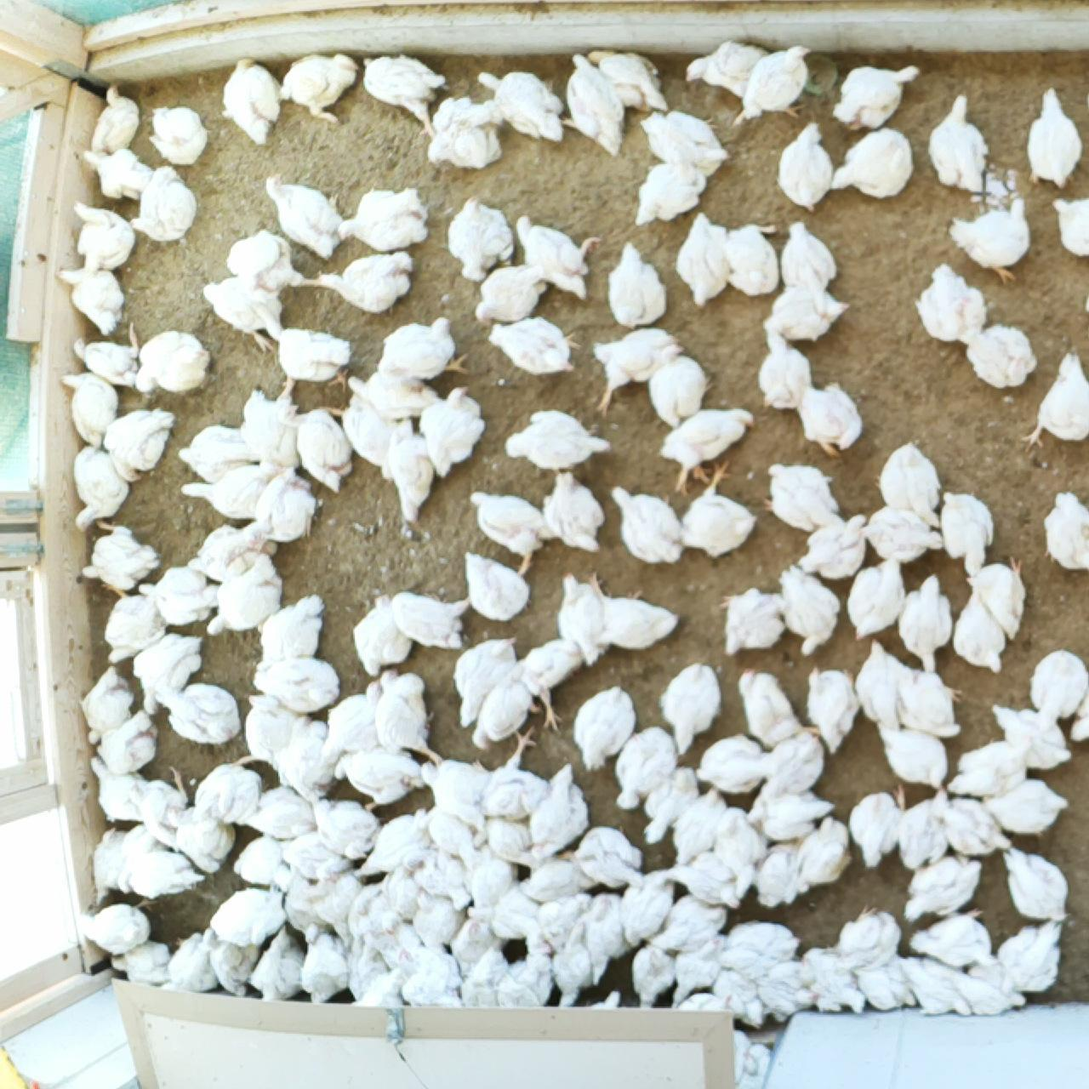chicken: (588, 324, 685, 420), (657, 406, 759, 496), (220, 227, 332, 301), (946, 194, 1037, 283), (361, 51, 447, 144), (277, 399, 361, 494), (372, 663, 444, 773), (678, 459, 759, 556), (556, 54, 630, 159), (510, 215, 597, 304), (501, 406, 612, 475), (587, 573, 680, 655), (1021, 347, 1089, 453), (261, 172, 346, 256), (740, 668, 820, 757), (203, 271, 287, 355), (478, 728, 553, 821), (419, 751, 493, 845), (466, 488, 550, 570), (1018, 88, 1084, 192), (518, 631, 587, 730), (731, 44, 814, 126), (475, 71, 568, 144), (912, 259, 988, 348), (775, 217, 841, 319), (604, 482, 687, 563), (239, 373, 298, 486), (657, 658, 725, 756), (986, 700, 1076, 774), (266, 317, 357, 390), (851, 637, 918, 736), (202, 555, 280, 640), (317, 247, 413, 316), (467, 668, 544, 754), (869, 439, 946, 525), (926, 94, 992, 194), (829, 123, 917, 198), (830, 61, 919, 135), (776, 562, 845, 657), (177, 459, 279, 523), (640, 106, 730, 178), (609, 726, 683, 812), (373, 316, 469, 382), (452, 636, 516, 735), (421, 380, 483, 482), (874, 715, 951, 797), (582, 48, 673, 117), (774, 117, 838, 215), (423, 92, 503, 170), (350, 805, 431, 882), (92, 583, 166, 667), (670, 209, 732, 309), (336, 746, 427, 814), (604, 240, 672, 331), (276, 51, 360, 124), (896, 573, 959, 670), (223, 690, 297, 772), (245, 464, 318, 547), (979, 775, 1072, 840), (382, 418, 439, 524), (528, 762, 589, 861), (131, 631, 202, 716), (480, 315, 584, 373), (760, 278, 854, 342), (1001, 841, 1070, 928), (103, 402, 178, 482), (447, 196, 516, 282), (909, 904, 1001, 968), (247, 651, 340, 714), (248, 592, 322, 671), (932, 787, 1013, 859), (538, 467, 605, 554), (338, 189, 432, 251), (899, 852, 982, 922), (927, 957, 1025, 1016), (246, 920, 314, 1005), (990, 918, 1063, 997), (936, 487, 1000, 577), (553, 571, 612, 668), (572, 682, 634, 774), (70, 318, 146, 393), (791, 383, 866, 459), (66, 443, 130, 532), (569, 892, 632, 982), (80, 520, 161, 590), (945, 732, 1033, 796), (387, 584, 475, 648), (273, 710, 332, 805), (761, 461, 842, 530), (847, 784, 909, 874), (854, 503, 944, 565), (321, 678, 385, 765), (965, 553, 1028, 641), (222, 57, 284, 146), (892, 663, 966, 737), (156, 683, 244, 745), (128, 164, 197, 243), (659, 847, 740, 914), (133, 328, 214, 395), (716, 915, 802, 978), (138, 562, 220, 627), (471, 258, 547, 328), (646, 353, 714, 431), (77, 661, 136, 750), (719, 219, 783, 301), (460, 554, 536, 623), (646, 891, 724, 958), (345, 363, 441, 417), (828, 901, 901, 972), (307, 794, 381, 864), (127, 845, 203, 913), (205, 882, 287, 945), (349, 594, 409, 680), (846, 555, 906, 641), (949, 586, 1005, 678), (638, 763, 700, 846), (176, 420, 259, 482), (746, 787, 836, 844), (899, 951, 971, 1022), (160, 804, 233, 874), (796, 509, 870, 578), (636, 157, 710, 226), (77, 896, 162, 956), (125, 766, 189, 845), (338, 391, 402, 470), (56, 265, 129, 334), (964, 323, 1040, 389), (693, 731, 775, 792), (753, 326, 810, 413), (798, 944, 864, 1019), (806, 668, 861, 757), (1024, 650, 1088, 726), (295, 924, 352, 1009), (479, 892, 553, 957), (793, 815, 856, 891), (60, 370, 122, 447), (685, 38, 768, 95), (619, 866, 675, 950), (713, 807, 764, 899), (154, 929, 220, 1000), (238, 781, 320, 838), (721, 584, 785, 657), (73, 198, 137, 271), (93, 703, 161, 771), (191, 756, 262, 821), (396, 952, 467, 1016), (113, 817, 167, 901), (199, 927, 261, 1000), (192, 520, 271, 577), (276, 828, 355, 884), (309, 856, 359, 943), (228, 832, 298, 894), (753, 730, 825, 790), (514, 850, 598, 901), (1038, 489, 1089, 573), (571, 823, 640, 885), (82, 144, 151, 205), (144, 103, 208, 168), (671, 784, 724, 862), (279, 867, 330, 948), (852, 950, 915, 1015), (894, 795, 947, 872), (412, 842, 472, 910), (491, 953, 558, 1013), (87, 755, 145, 824), (550, 921, 595, 1008), (753, 958, 818, 1018), (623, 939, 677, 1011), (107, 937, 178, 991), (87, 82, 141, 152), (753, 835, 804, 909), (410, 888, 466, 954), (449, 904, 498, 979), (712, 964, 766, 1032), (478, 811, 541, 869), (536, 887, 592, 952), (672, 933, 726, 998), (753, 969, 818, 1023), (374, 909, 422, 982), (455, 949, 510, 1012), (424, 802, 474, 869), (343, 878, 391, 947), (464, 842, 514, 907), (87, 824, 127, 905), (341, 928, 385, 998), (728, 1030, 780, 1089), (351, 969, 411, 1015), (382, 858, 423, 925), (1048, 190, 1089, 257), (671, 990, 734, 1016), (1067, 680, 1089, 747)
